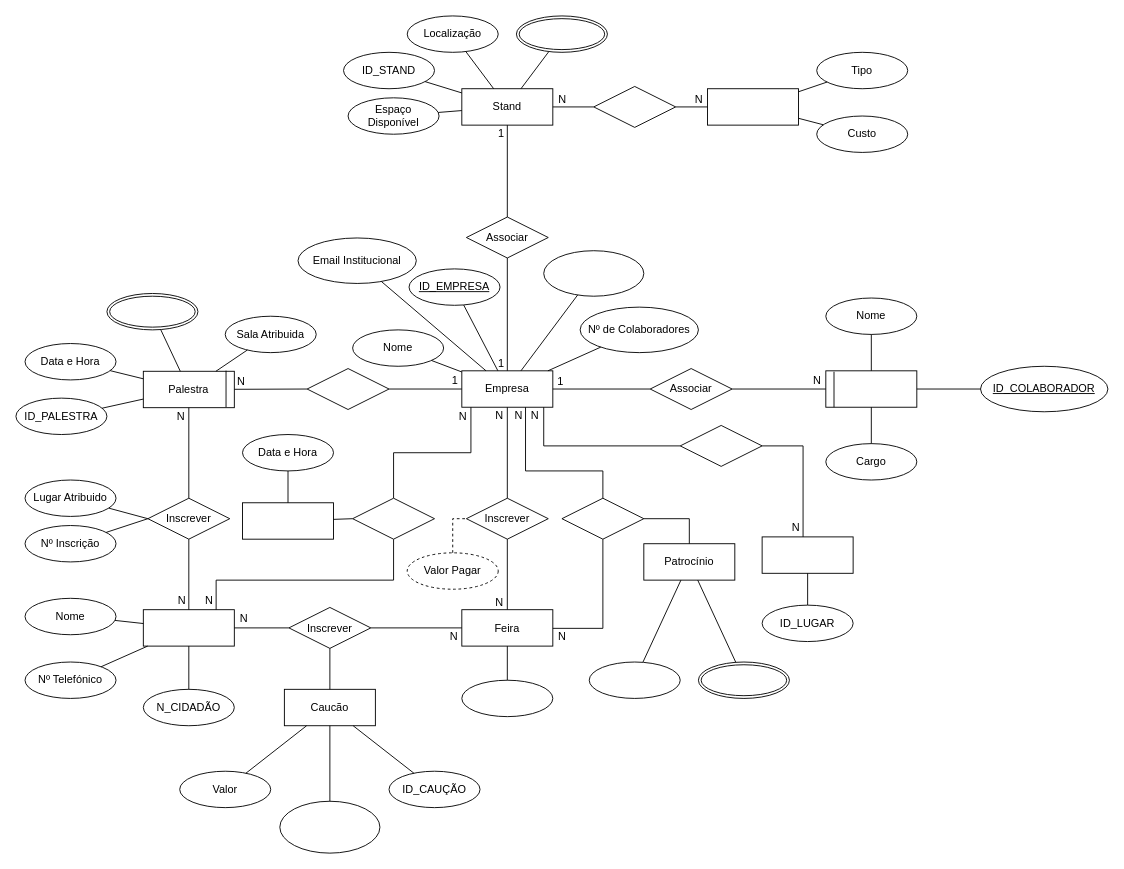
The diagram is 1124 pixels wide and 869 high, and some of its shapes have lost their labels. Each missing label, with the box of its shape:
Area de Negócio: (543, 250, 644, 296)
Colaborador: (825, 370, 917, 407)
Dias Correspondentes: (279, 800, 380, 853)
Dinamizar: (306, 368, 389, 410)
EDIÇÃO: (461, 679, 553, 717)
Ementa: (707, 88, 799, 125)
Entrevista: (242, 502, 334, 539)
Entrevistar: (352, 497, 435, 539)
Estacionar: (679, 425, 762, 466)
Estudante: (142, 609, 234, 646)
Lugar de Estacionamento: (761, 536, 853, 573)
Patrocionar: (561, 497, 644, 539)
Quantia Despendida: (588, 661, 680, 698)
Servir: (593, 86, 676, 127)
Serviços: (516, 15, 607, 52)
Temas: (106, 293, 198, 330)
Tipo de publicidade: (698, 661, 789, 698)
